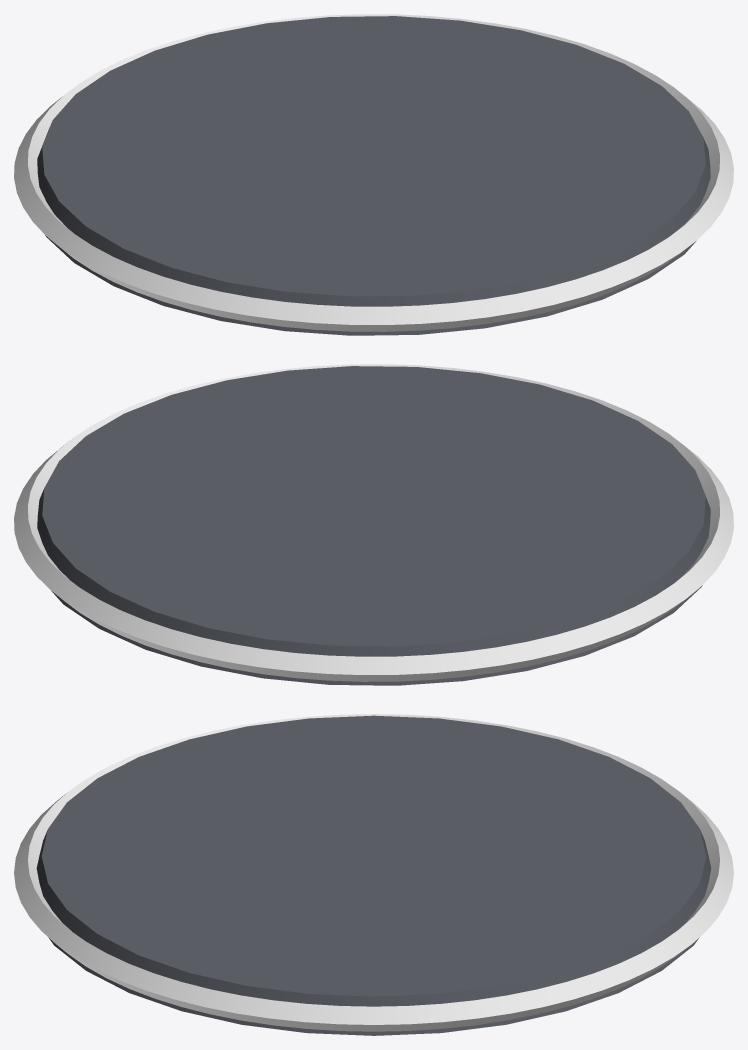
3 views of the same model, one above another, from view 1: azimuth 30°, elevation 25°; view 2: azimuth 150°, elevation 25°; view 3: azimuth 270°, elevation 25° (orthographic).
Visible parts, largest first — view 1: base_s1; view 2: base_s1; view 3: base_s1.
Part boxes in pixels (<box>): base_s1: <box>14,14,733,335</box>; base_s1: <box>14,364,733,685</box>; base_s1: <box>14,714,733,1035</box>.
Bounding box in the file's own units: 1.56 × 0.08 × 1.56.
Materials: 2 (1 with a texture image).
